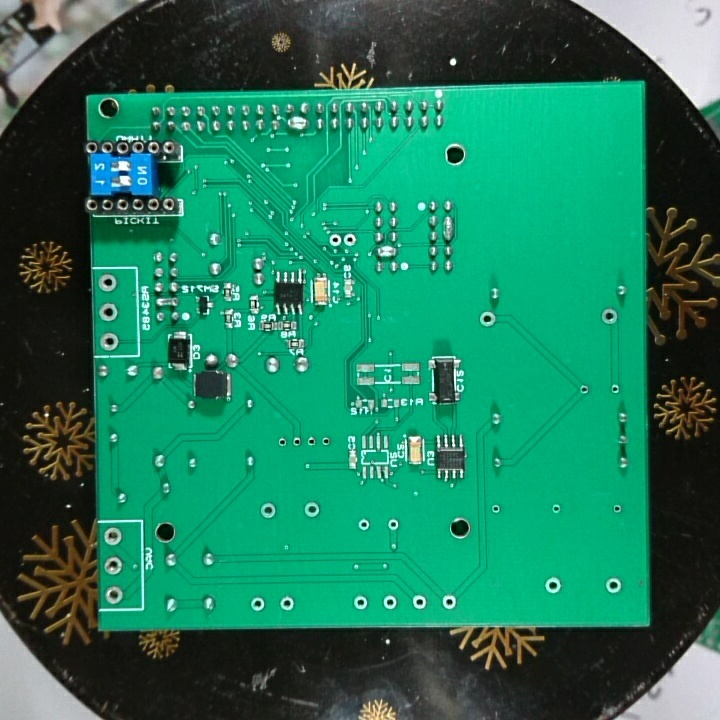F: (601, 573, 625, 597), (97, 301, 118, 325), (103, 555, 124, 578), (477, 309, 499, 330), (541, 574, 563, 595), (103, 525, 125, 546), (102, 585, 125, 605), (302, 498, 322, 521), (98, 331, 119, 352), (97, 273, 118, 294), (351, 592, 370, 615), (248, 592, 267, 615), (599, 306, 619, 327), (408, 592, 429, 612), (379, 592, 400, 612), (439, 592, 459, 612), (277, 595, 297, 615), (259, 500, 277, 522), (384, 514, 401, 536), (325, 231, 342, 249), (610, 500, 625, 519), (275, 434, 291, 451), (356, 517, 371, 535), (342, 232, 357, 249), (577, 382, 591, 400), (549, 500, 563, 518), (289, 434, 303, 452), (488, 501, 504, 516), (608, 380, 621, 398), (305, 432, 317, 451), (319, 435, 332, 452)
P: (283, 115, 312, 134), (439, 212, 457, 242), (152, 296, 181, 310), (372, 245, 400, 259)
